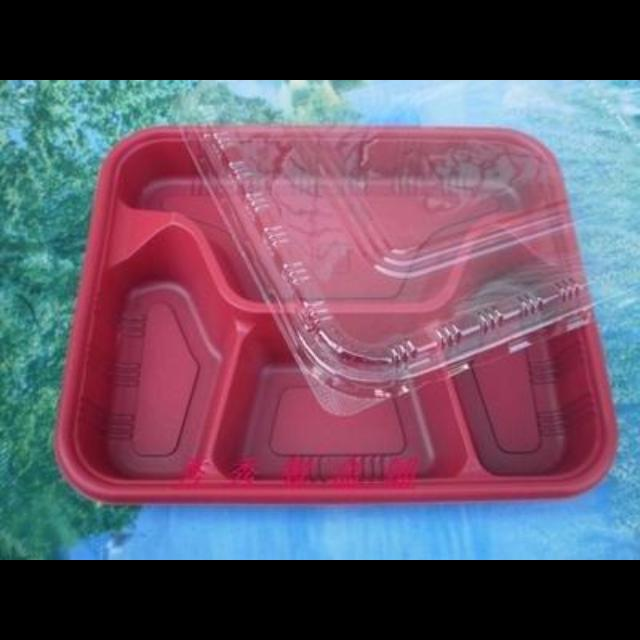plastic_box: (55, 80, 637, 504)
